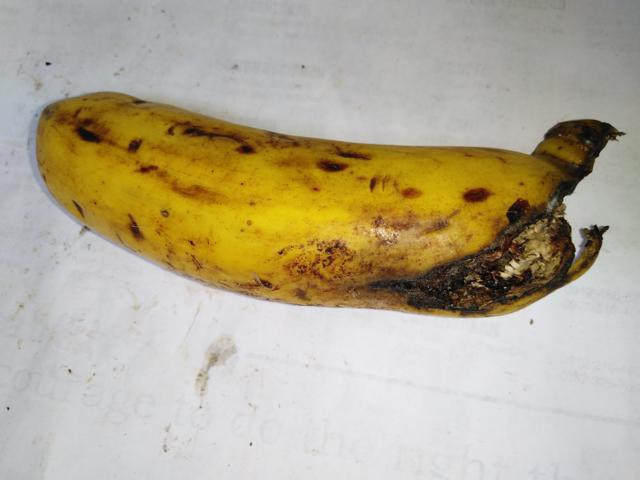ripe: (27, 62, 405, 309)
rotten: (344, 146, 621, 326)
